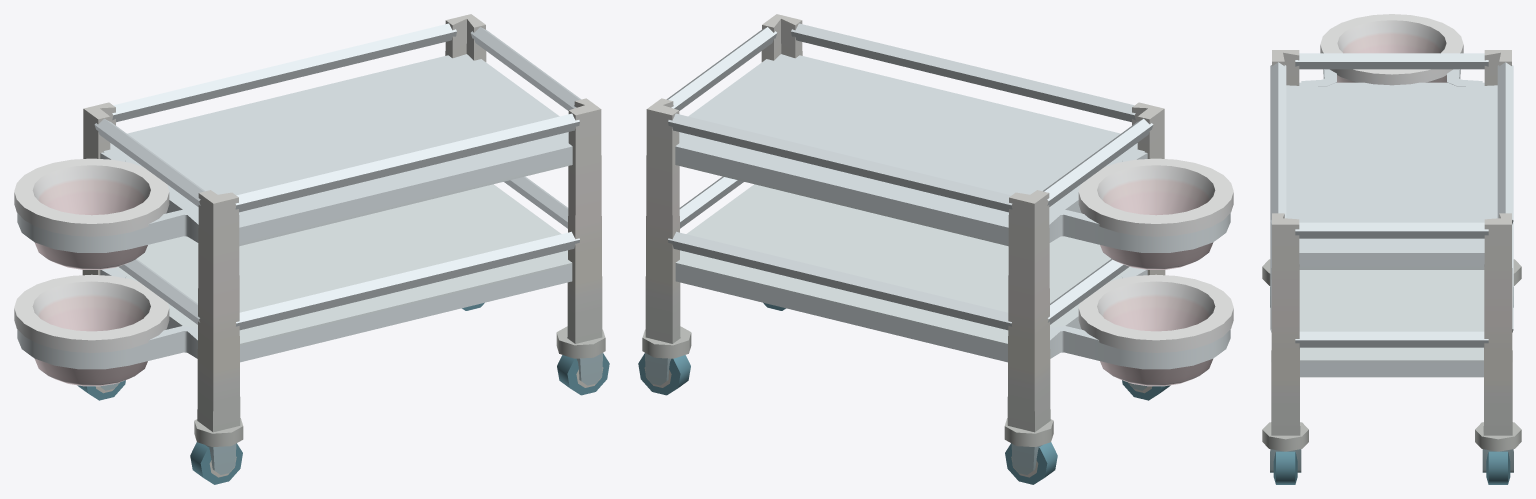
The model's file is Pfb_JLAB_Utility_Cart.fbx.
3 views of the same model, side by side, from view 1: azimuth 30°, elevation 25°; view 2: azimuth 150°, elevation 25°; view 3: azimuth 270°, elevation 25° (orthographic). The views are drawn at different scales.
Parts seen in each view (by area): view 1: Metal, Color; view 2: Metal, Color; view 3: Metal, Color.
Part boxes in pixels (left/top/right/bottom): Metal: left=14, top=23, right=581, bottom=386; Color: left=77, top=14, right=609, bottom=484; Metal: left=666, top=23, right=1233, bottom=386; Color: left=638, top=14, right=1170, bottom=484; Metal: left=1270, top=14, right=1513, bottom=377; Color: left=1262, top=50, right=1521, bottom=484.
Size of the model in its own units: 1.25 by 0.6532 by 0.5823.
2 materials, 2 textured.
